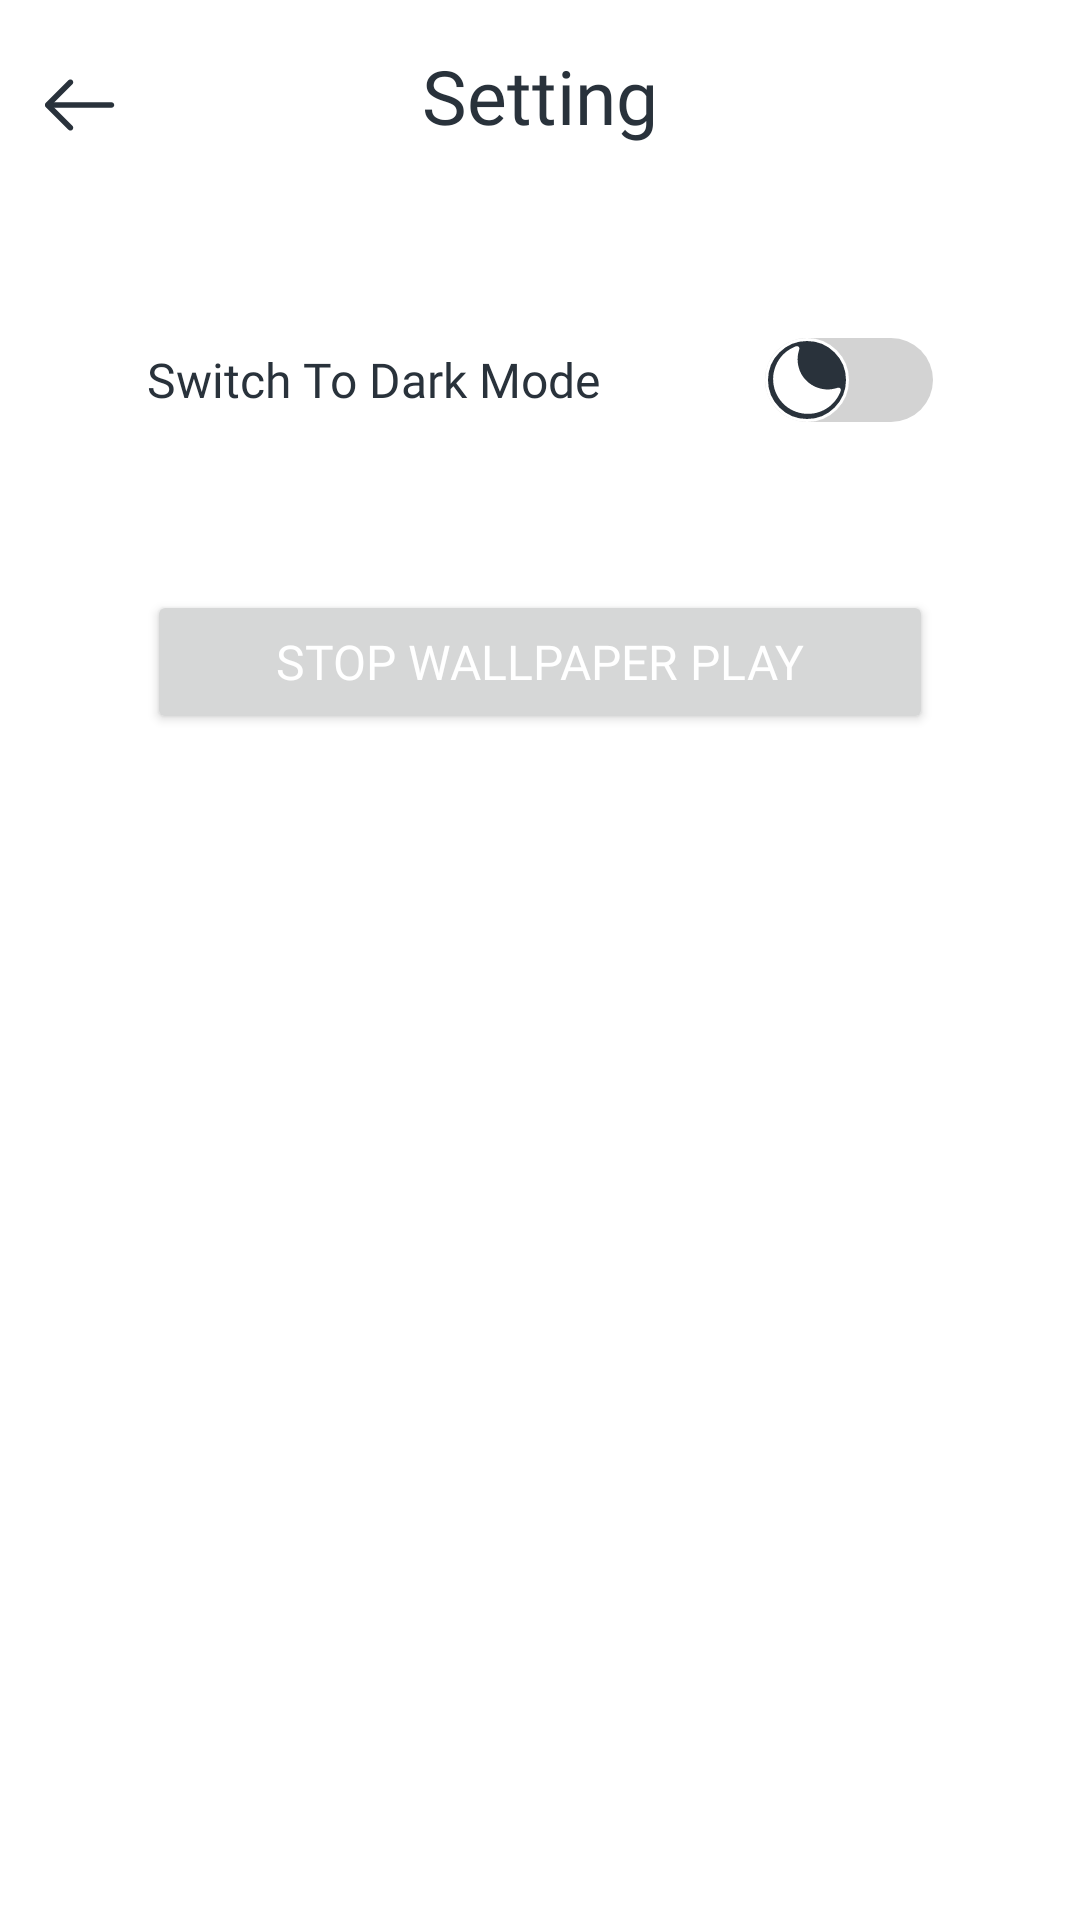

Icons on this 1080px x 1920px Android screen, each with its box as (x1,y1,x2,y2):
back: (45,79,115,131)
